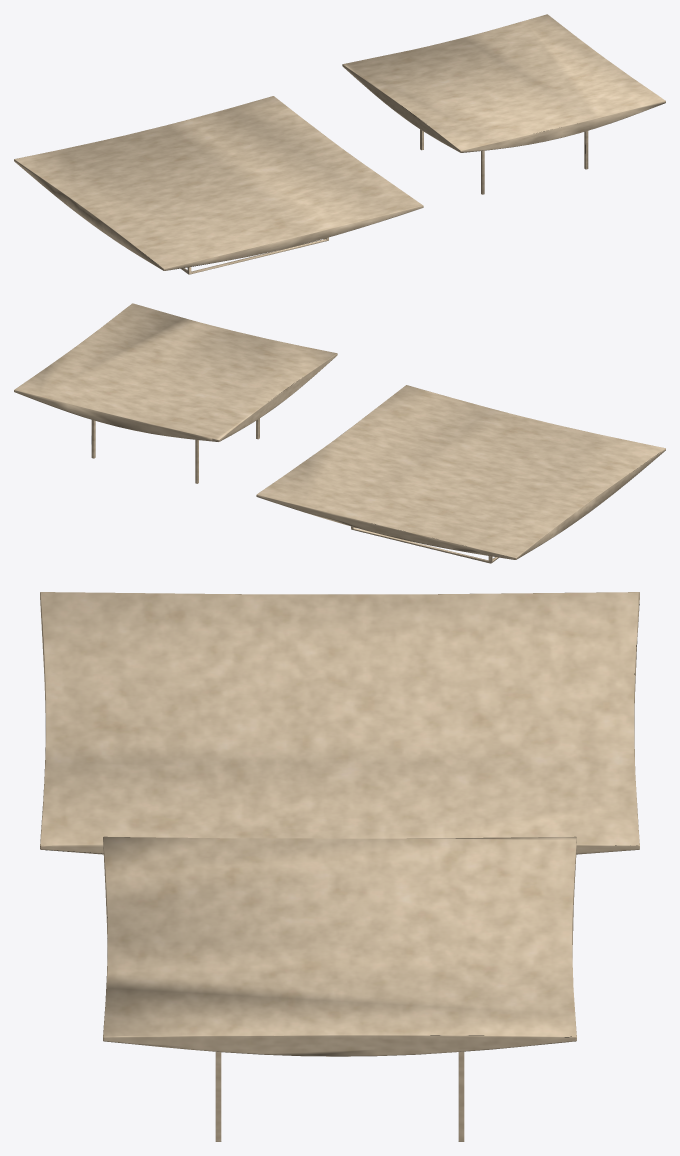
The model's file is ibiza-coffee-table-4k-baked.glb.
3 views of the same model, one above another, from view 1: azimuth 30°, elevation 25°; view 2: azimuth 150°, elevation 25°; view 3: azimuth 270°, elevation 25° (orthographic). The views are drawn at different scales.
Parts seen in each view (by area): view 1: ibiza-coffee-table-4k-baked-mesh; view 2: ibiza-coffee-table-4k-baked-mesh; view 3: ibiza-coffee-table-4k-baked-mesh.
Boxes of the visible parts, x1,y1,x2,y2 form: ibiza-coffee-table-4k-baked-mesh: (14, 14, 665, 274); ibiza-coffee-table-4k-baked-mesh: (14, 303, 665, 563); ibiza-coffee-table-4k-baked-mesh: (40, 592, 639, 1141).
Bounding box in the file's own units: 2.38 × 0.3374 × 1.19.
1 material, 1 textured.
